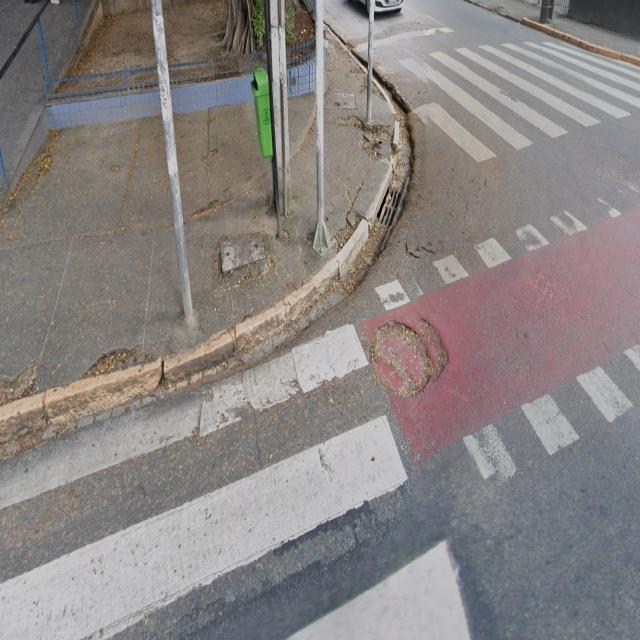Bueiro: (371, 306, 451, 401)
